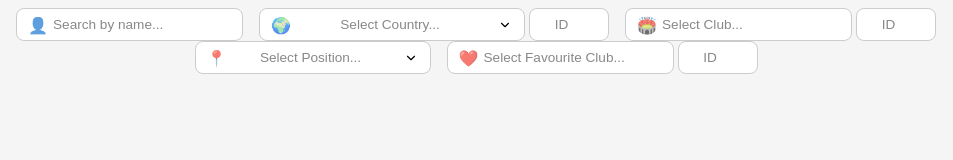
Test: GeneralFilters — club ID editing (bindable) › propagates a typed club ID into the ClubSelect search box
This screenshot has width=953, height=160.
In the number field named "Club ID": coordinates (896, 24) [856,8,936,41], type "61"
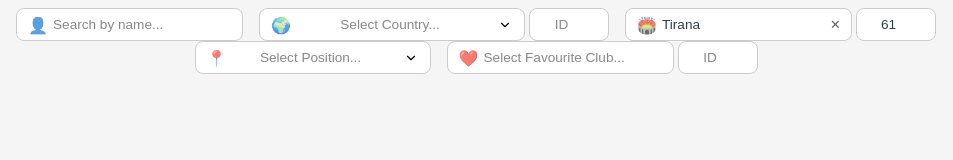
expect the field with placeholder "Select Club..." holds "Tirana": met, box [625,8,852,41]
